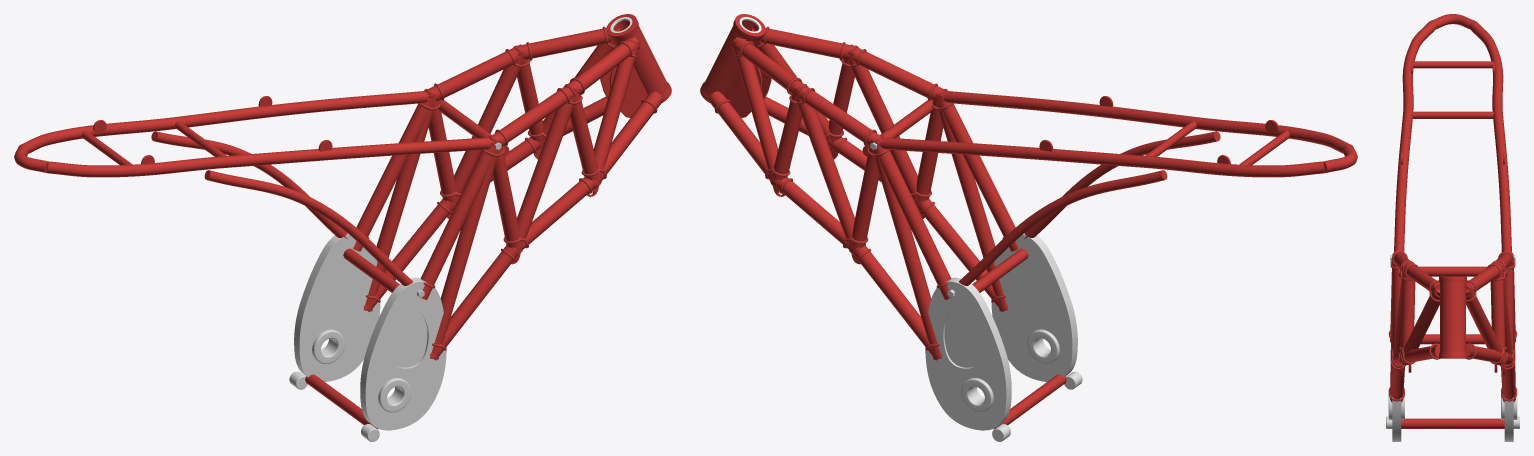
The model's file is frame.glb.
The picture shows the model from 3 angles, left to right: view 1: azimuth 30°, elevation 25°; view 2: azimuth 150°, elevation 25°; view 3: azimuth 270°, elevation 25°; orthographic projection. The views are drawn at different scales.
Parts seen in each view (by area): view 1: frame__trellis_left, frame__trellis_right, frame__subframe_rails, frame__pivot_plate_left, frame__pivot_plate_right, frame__subframe_stays, frame__cross_tubes, frame__steering_head, frame__welds, frame__head_gussets, frame__subframe_cross, frame__pivot_boss_right (+1 smaller); view 2: frame__trellis_right, frame__trellis_left, frame__subframe_rails, frame__pivot_plate_right, frame__pivot_plate_left, frame__subframe_stays, frame__cross_tubes, frame__steering_head, frame__welds, frame__head_gussets, frame__subframe_cross, frame__pivot_boss_left (+1 smaller); view 3: frame__subframe_rails, frame__trellis_left, frame__trellis_right, frame__cross_tubes, frame__steering_head, frame__welds, frame__subframe_cross, frame__pivot_plate_left, frame__pivot_plate_right, frame__pivot_boss_left, frame__pivot_boss_right.
Part boxes in pixels (x1,y1,x2,y2): frame__trellis_left: (420, 37, 663, 360); frame__trellis_right: (353, 28, 619, 312); frame__subframe_rails: (14, 91, 492, 177); frame__pivot_plate_left: (360, 277, 446, 430); frame__pivot_plate_right: (294, 233, 380, 381); frame__subframe_stays: (151, 131, 412, 285); frame__cross_tubes: (305, 100, 509, 429); frame__steering_head: (606, 14, 671, 102); frame__welds: (365, 26, 657, 350); frame__head_gussets: (600, 66, 647, 117); frame__subframe_cross: (82, 120, 226, 165); frame__pivot_boss_right: (312, 329, 344, 363); frame__trellis_right: (708, 37, 951, 360); frame__trellis_left: (752, 28, 1018, 312); frame__subframe_rails: (879, 91, 1357, 177); frame__pivot_plate_right: (925, 277, 1011, 430); frame__pivot_plate_left: (991, 233, 1077, 381); frame__subframe_stays: (959, 131, 1220, 285); frame__cross_tubes: (862, 100, 1066, 429); frame__steering_head: (700, 14, 765, 102); frame__welds: (714, 26, 1006, 350); frame__head_gussets: (724, 66, 771, 117); frame__subframe_cross: (1145, 120, 1289, 165); frame__pivot_boss_left: (1027, 329, 1059, 363); frame__subframe_rails: (1394, 14, 1511, 251); frame__trellis_left: (1390, 250, 1440, 402); frame__trellis_right: (1465, 250, 1515, 402); frame__cross_tubes: (1398, 266, 1507, 428); frame__steering_head: (1439, 276, 1466, 358); frame__welds: (1388, 251, 1517, 401); frame__subframe_cross: (1411, 61, 1494, 118); frame__pivot_plate_left: (1392, 397, 1401, 441); frame__pivot_plate_right: (1504, 397, 1513, 441); frame__pivot_boss_left: (1388, 391, 1404, 419); frame__pivot_boss_right: (1501, 391, 1517, 419).
Bounding box in the file's own units: 125 × 61.35 × 26.2.
